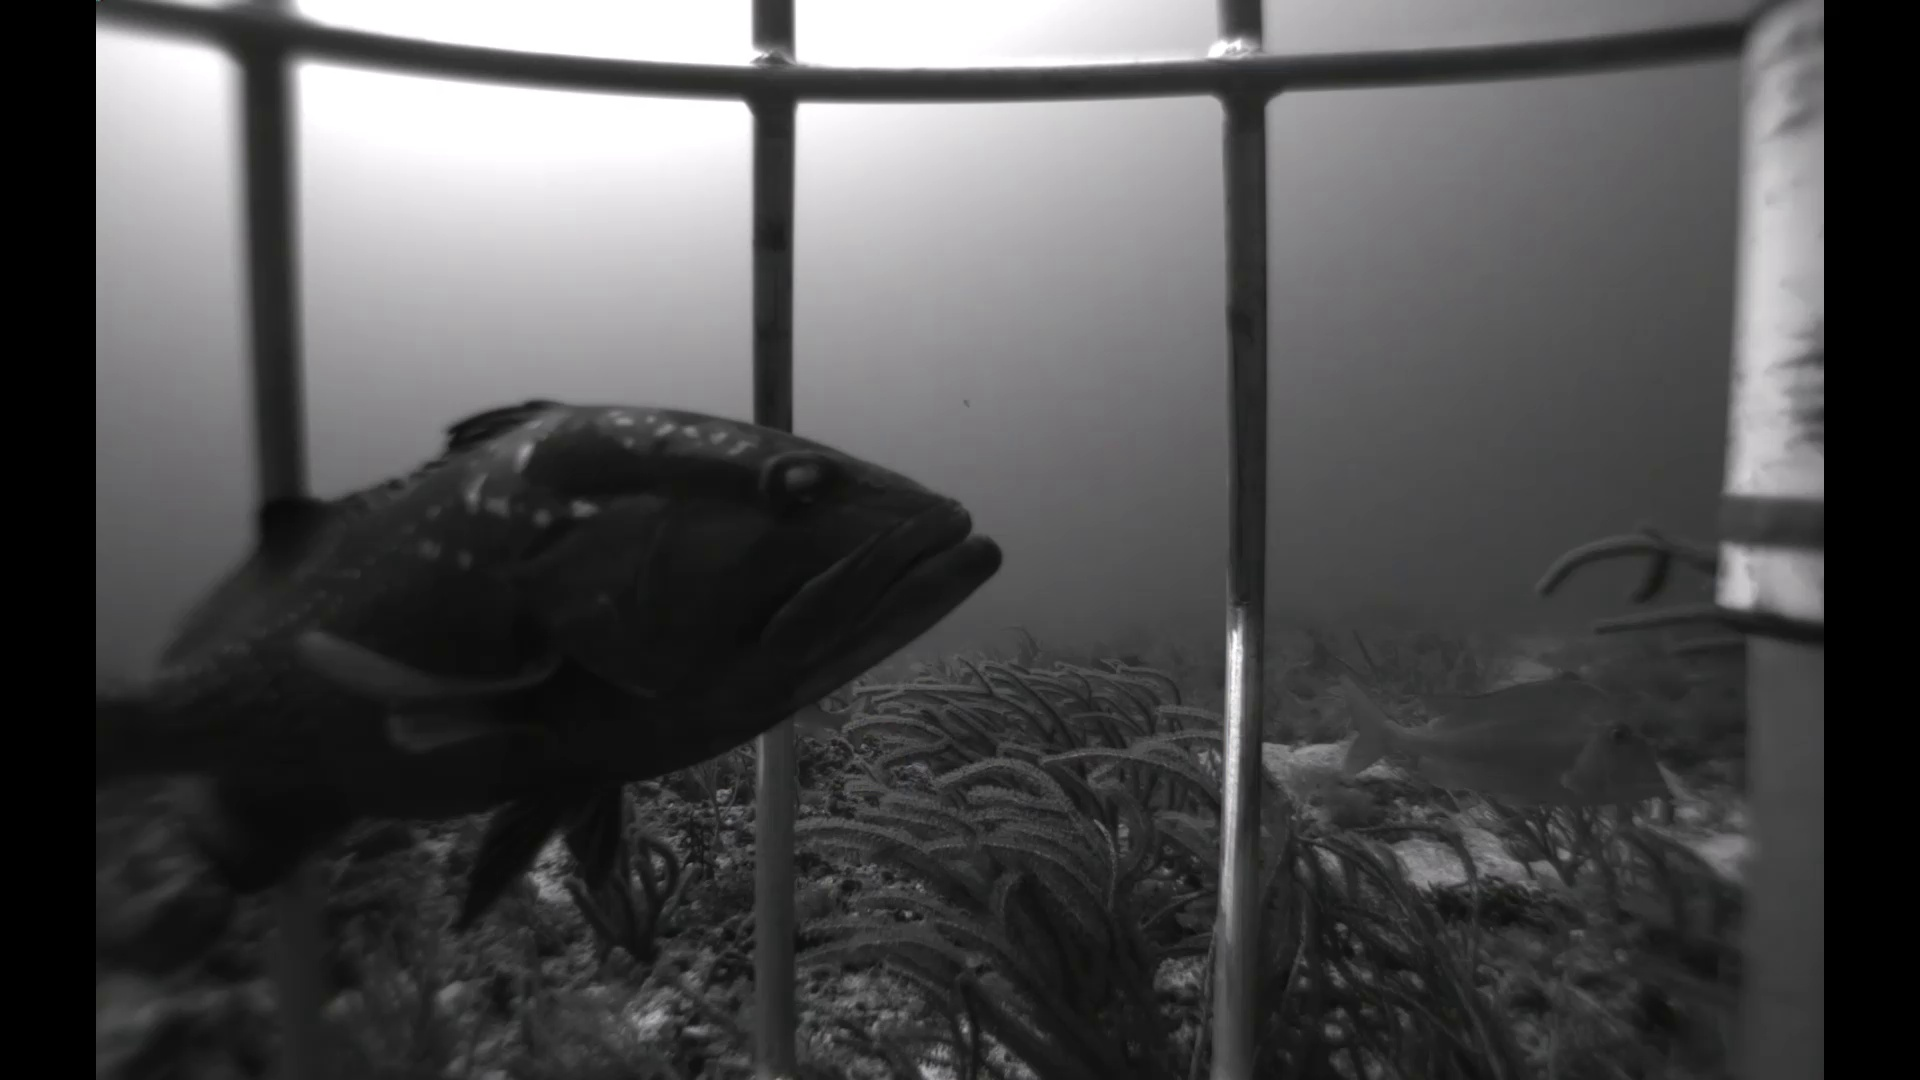CALAMUSNODOSUS-170210608: (1320, 651, 1683, 833)
EPINEPHELUSMORIO-170021211: (111, 381, 1029, 957)
LUTJANUSGRISEUS-170151109: (782, 682, 869, 753)
